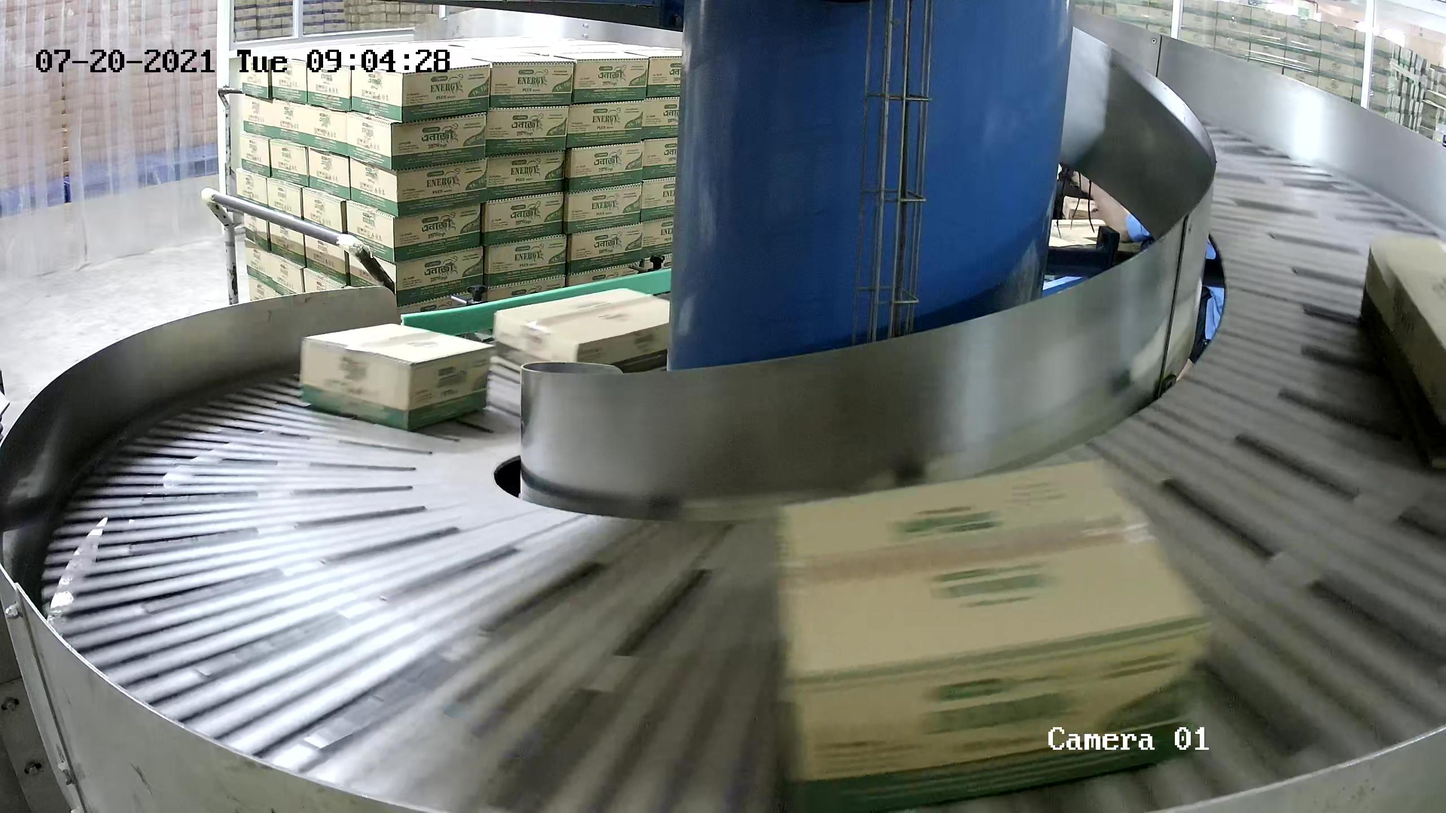Box: (766, 454, 1212, 813), (297, 318, 495, 433), (1359, 233, 1446, 470), (492, 284, 671, 387), (566, 468, 568, 470)
